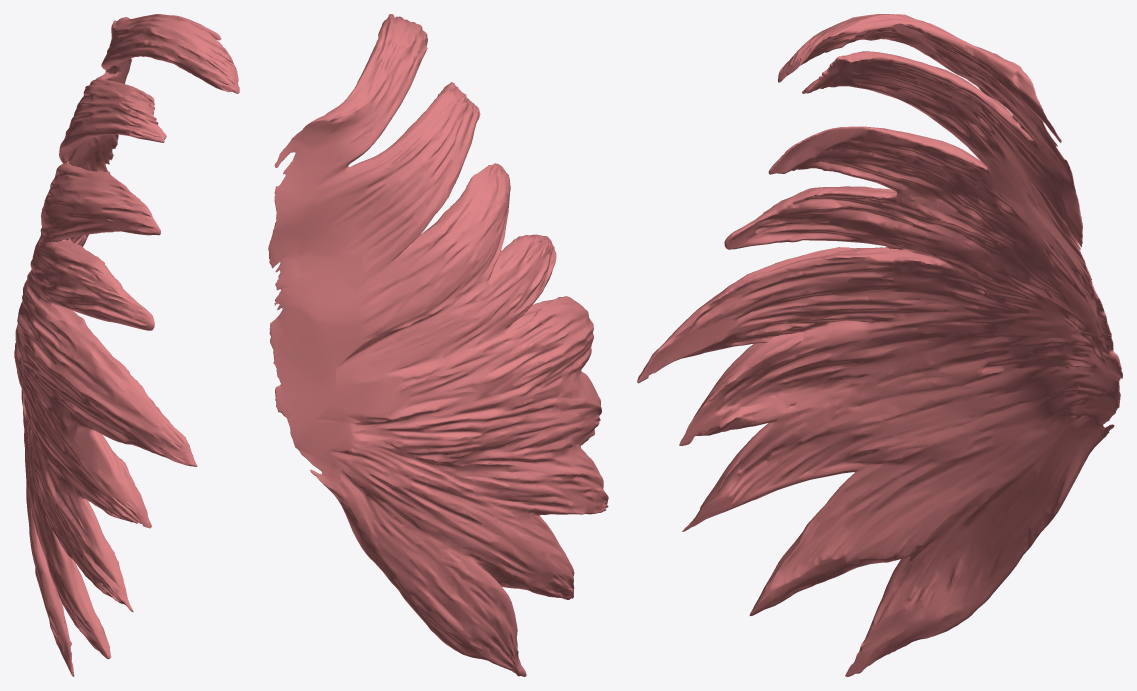
3 renders of one model, left to right at view 1: azimuth 30°, elevation 25°; view 2: azimuth 150°, elevation 25°; view 3: azimuth 270°, elevation 25°, orthographic. The views are drawn at different scales.
Visible parts, largest first — view 1: FJ1459; view 2: FJ1459; view 3: FJ1459.
Part boxes in pixels (bbox=[...]): FJ1459: bbox=[14, 14, 239, 676]; FJ1459: bbox=[268, 14, 608, 676]; FJ1459: bbox=[637, 14, 1122, 676].
Bounding box in the file's own units: 0.0862 × 0.2688 × 0.162.
